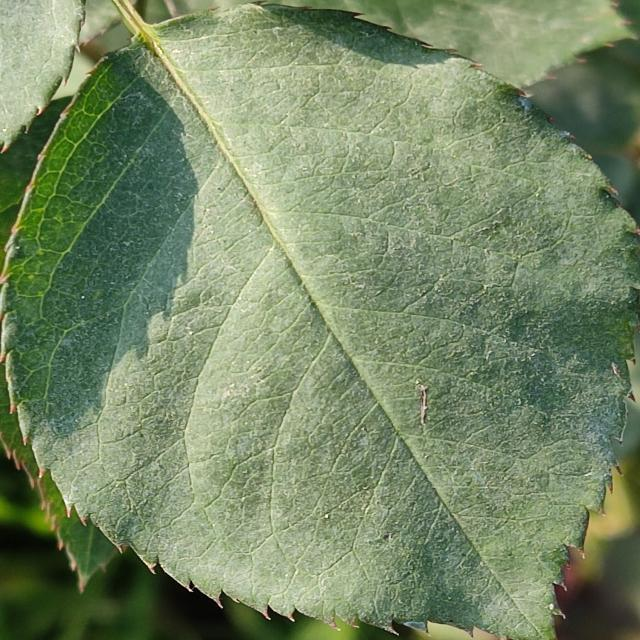Rose: (0, 1, 639, 638)
